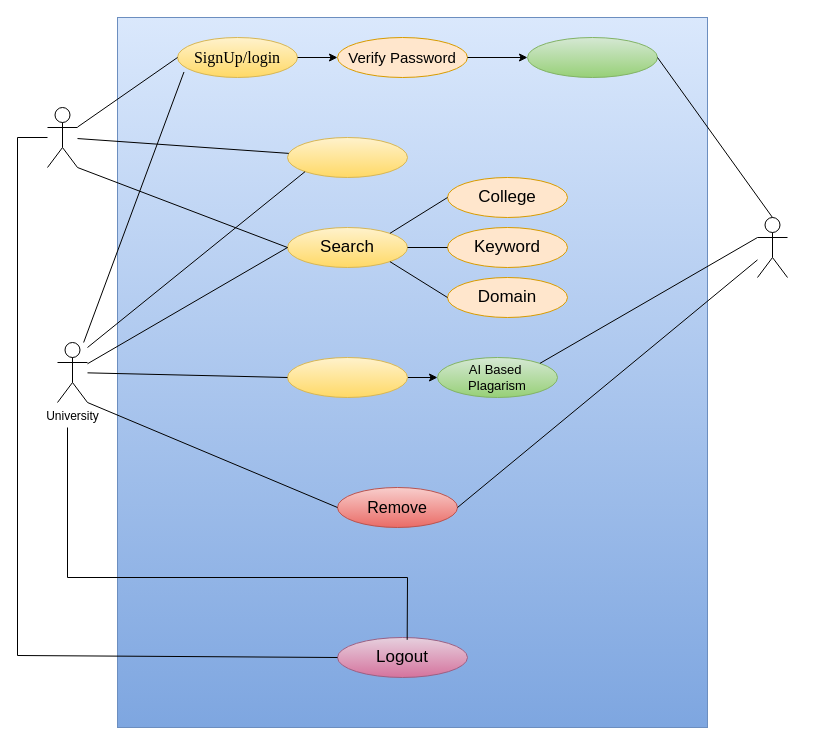
The diagram is 818 pixels wide and 745 high, and some of its shapes have lost their labels. Here are the shapes that lost their labels. From the top down, the box of each, then its label:
(526, 36, 658, 78): Display Login
(46, 106, 78, 168): Student
(286, 136, 408, 178): Veiw
(756, 216, 788, 278): Data Base
(286, 356, 408, 398): Add/Modify
